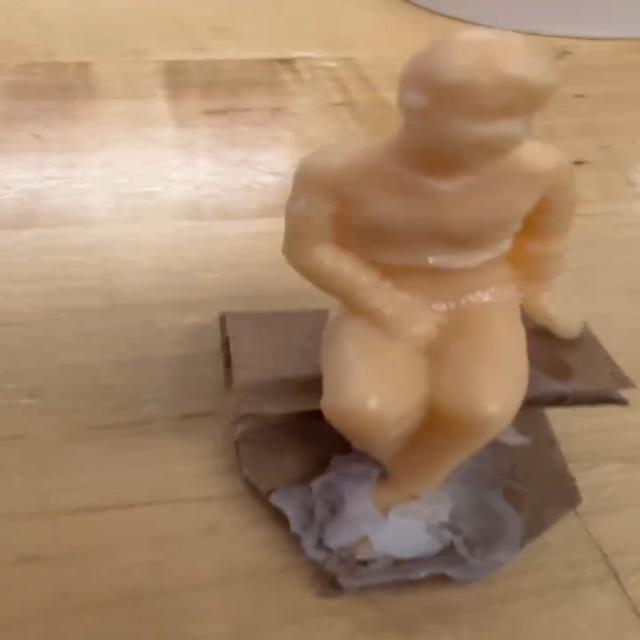Unauthorized: (282, 29, 602, 546)
